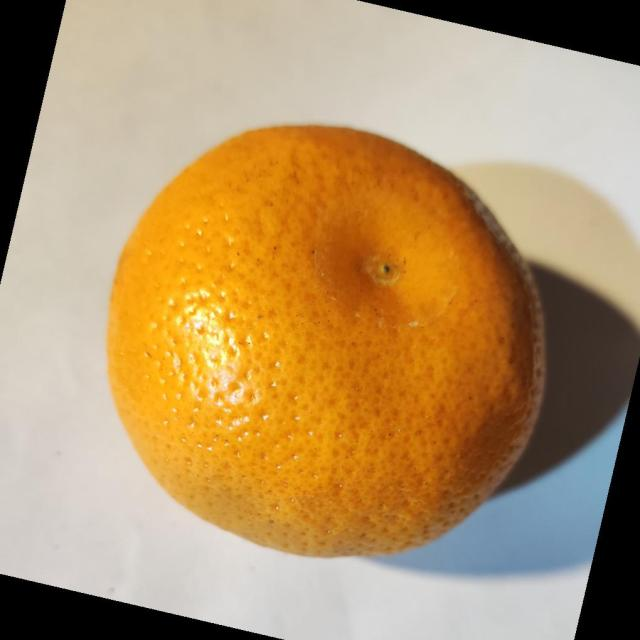fresh orange: (105, 122, 546, 558)
